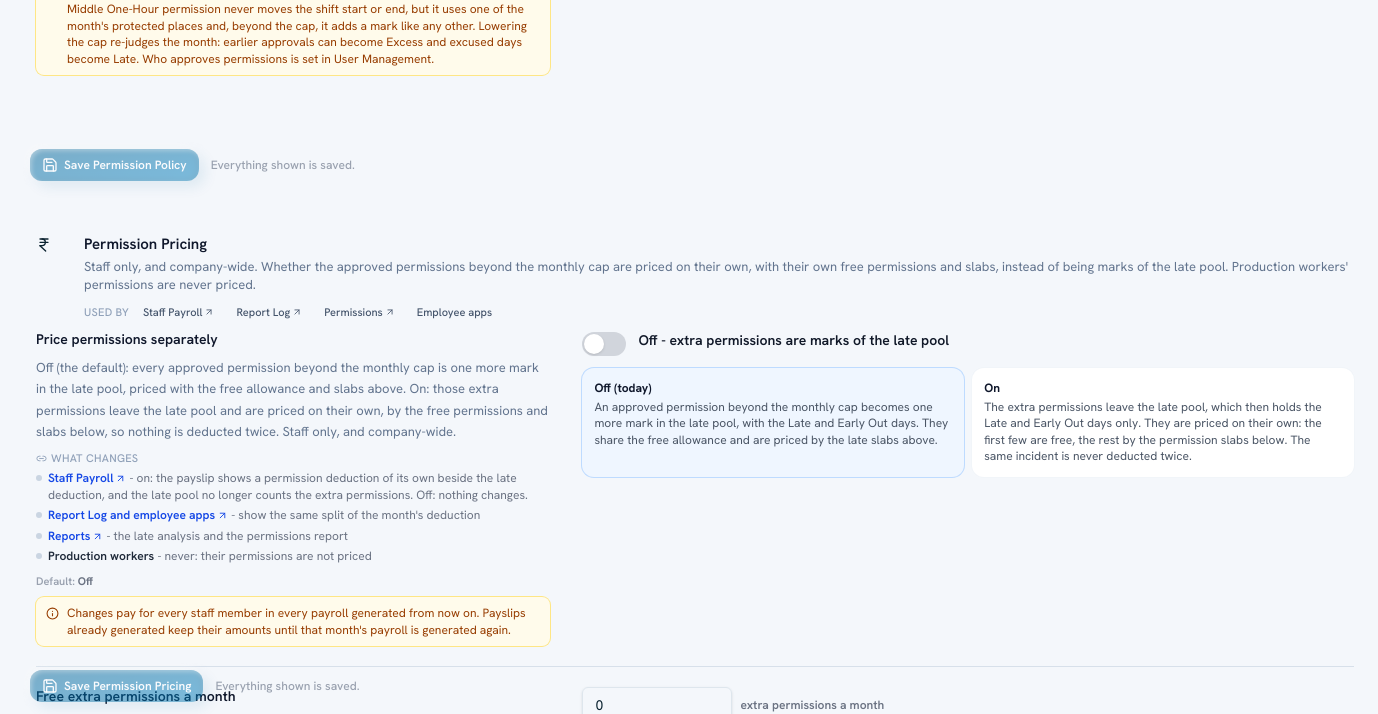
it: Settings -> Late Detection: Permission pricing › warns, and will not save, when it is turned ON with no slab
(page scrolled)
Step 1. Click the switch named "Off - extra permissions are marks of the late pool" → x=604, y=344, box [582, 332, 626, 356]
(page scrolled)
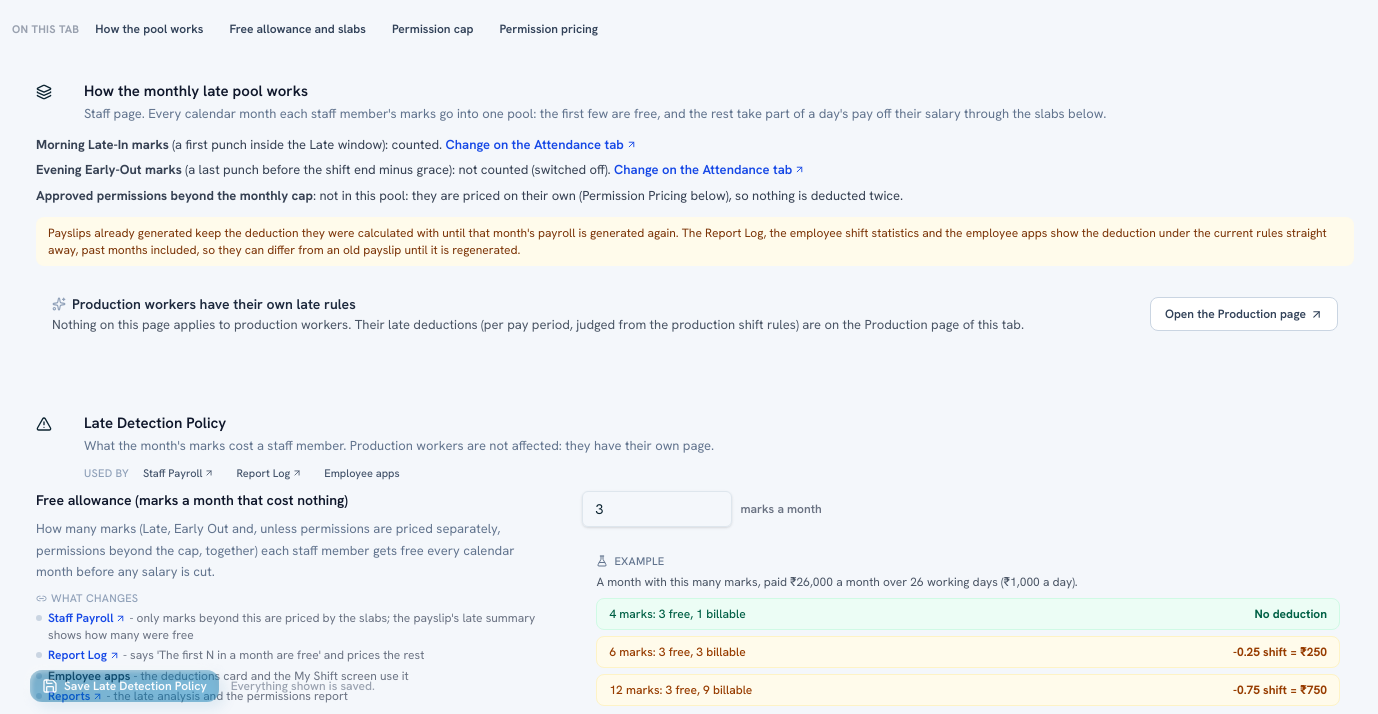
Expected: the list item with test id "late-pool-permissions" shows "priced on their own", [319, 187, 903, 204]
